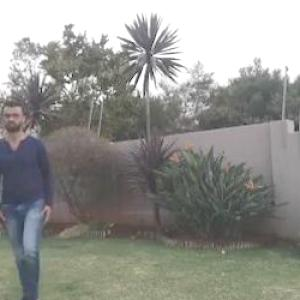follow: (1, 103, 52, 294)
